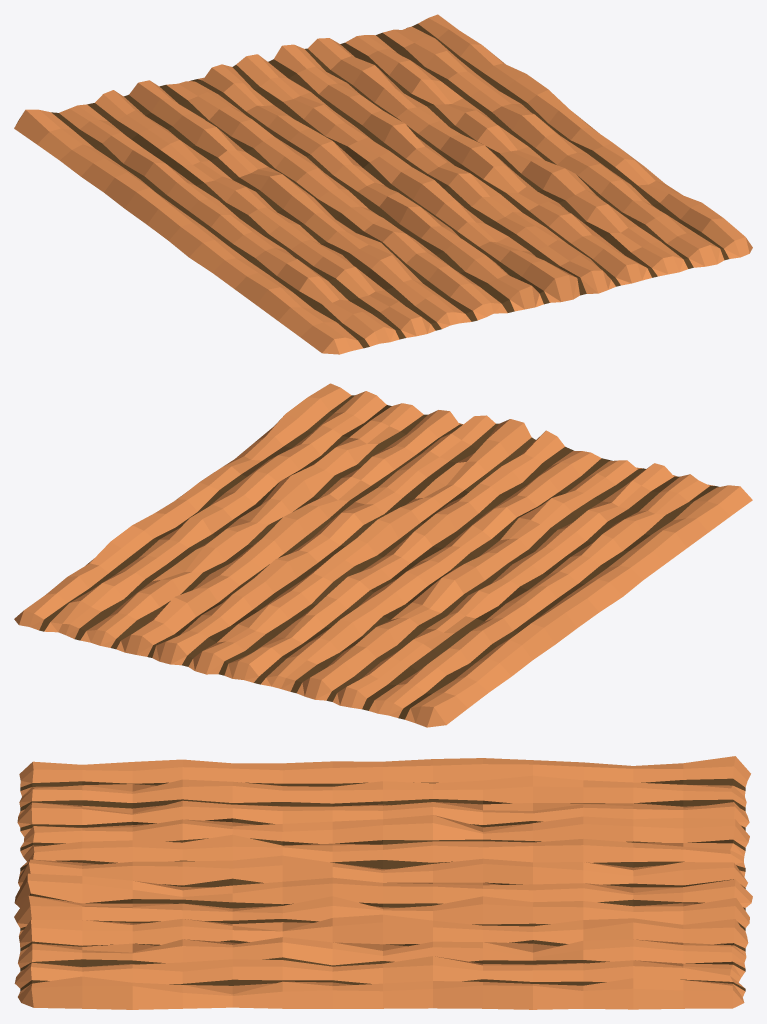
Rendered from Field_L.fbx.
3 renders of one model, top to bottom at view 1: azimuth 30°, elevation 25°; view 2: azimuth 150°, elevation 25°; view 3: azimuth 270°, elevation 25°, orthographic. The views are drawn at different scales.
Visible parts, largest first — view 1: Field_L.003; view 2: Field_L.003; view 3: Field_L.003.
Part boxes in pixels (x1,y1,x2,y2): Field_L.003: [14, 14, 752, 354]; Field_L.003: [14, 383, 752, 727]; Field_L.003: [14, 756, 752, 1009].
Bounding box in the file's own units: 10.49 × 0.4639 × 13.46.
